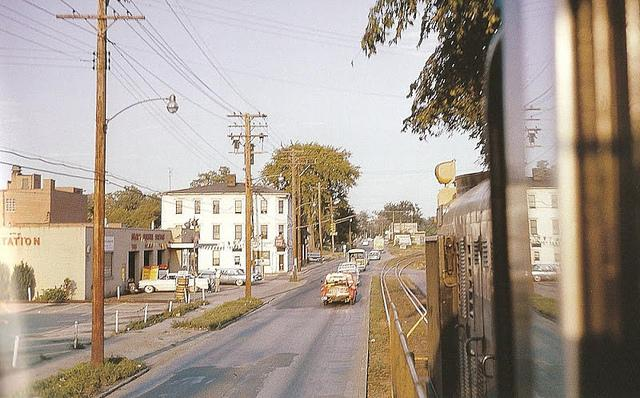Train: (426, 2, 640, 398)
